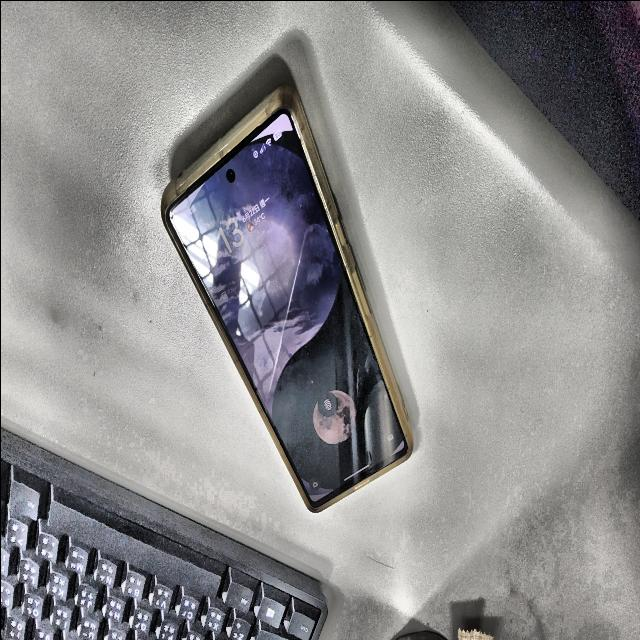Keyboard: (0, 427, 327, 640)
PHONE: (161, 85, 410, 510)
